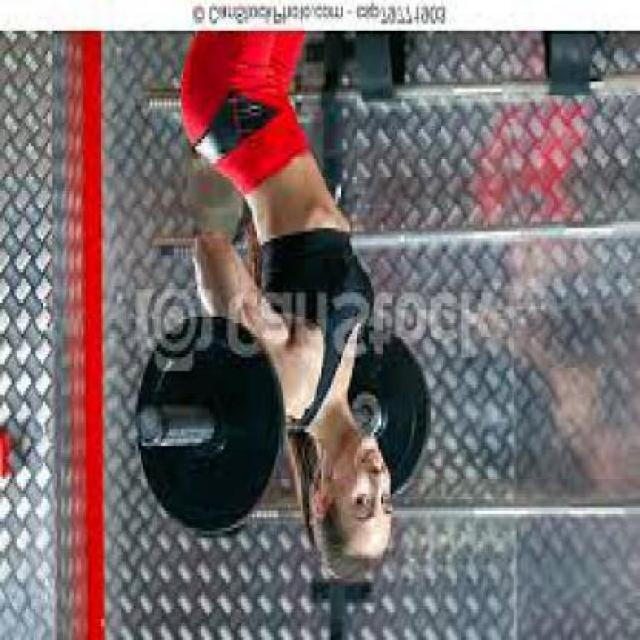Barbell: (126, 398, 169, 456)
